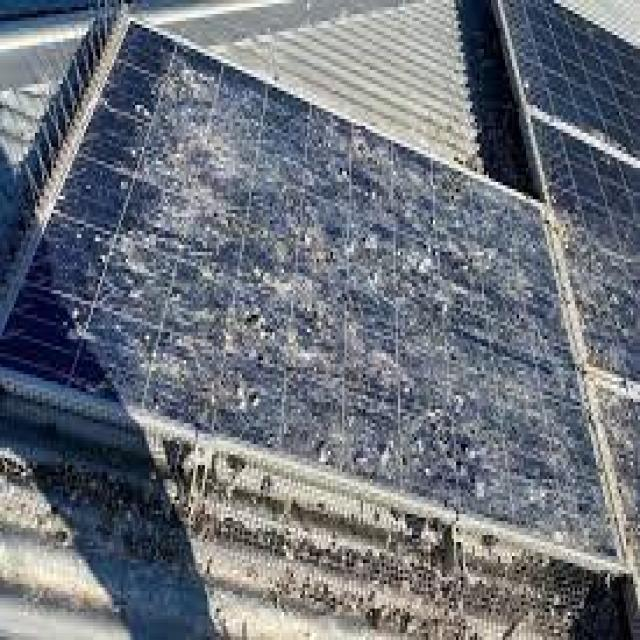soiled: (7, 14, 640, 563)
